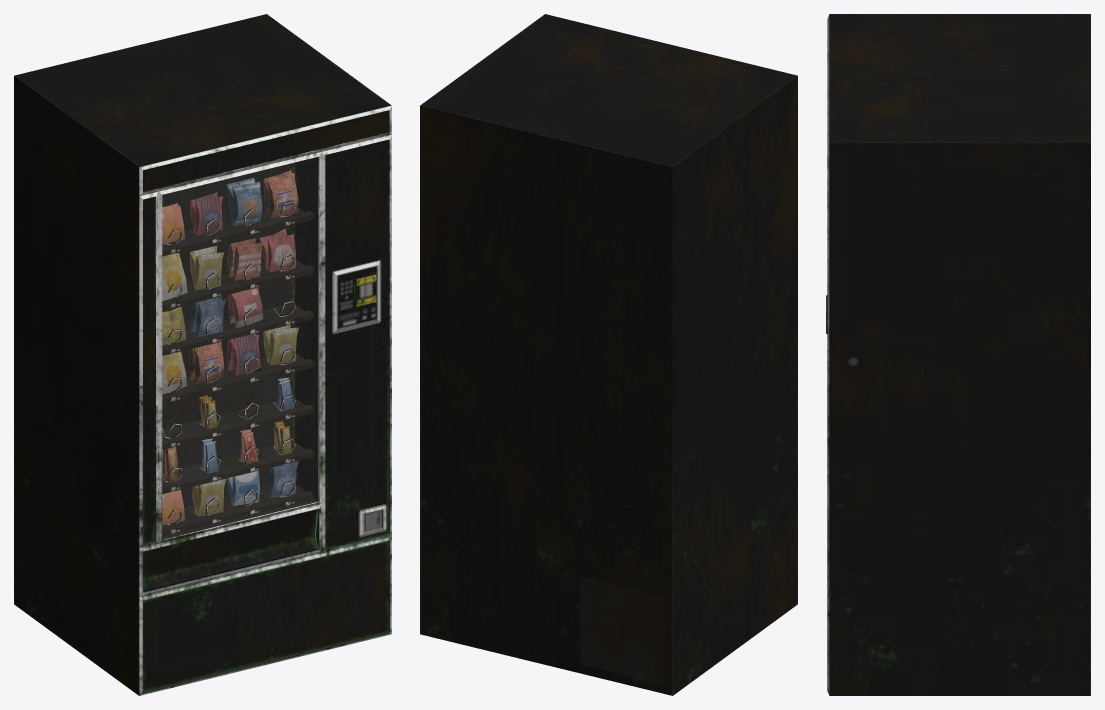
File: vending.glb
3 views of the same model, side by side, from view 1: azimuth 30°, elevation 25°; view 2: azimuth 150°, elevation 25°; view 3: azimuth 270°, elevation 25° (orthographic). The views are drawn at different scales.
Parts seen in each view (by area): view 1: Vend_Body_Vend_Body_0, Vend_Glass, Int Template_Vend_Int_0, Vend_bags_Vend_Bags_0; view 2: Vend_Body_Vend_Body_0; view 3: Vend_Body_Vend_Body_0.
Boxes of the visible parts, x1=… form: Vend_Body_Vend_Body_0: x1=14, y1=14, x2=391, y2=695; Vend_Glass: x1=163, y1=157, x2=317, y2=538; Int Template_Vend_Int_0: x1=162, y1=157, x2=318, y2=539; Vend_bags_Vend_Bags_0: x1=162, y1=170, x2=298, y2=525; Vend_Body_Vend_Body_0: x1=420, y1=14, x2=797, y2=695; Vend_Body_Vend_Body_0: x1=826, y1=14, x2=1090, y2=695.
Size of the model in its own units: 0.915 by 1.83 by 0.7943.
4 materials, 4 textured.
